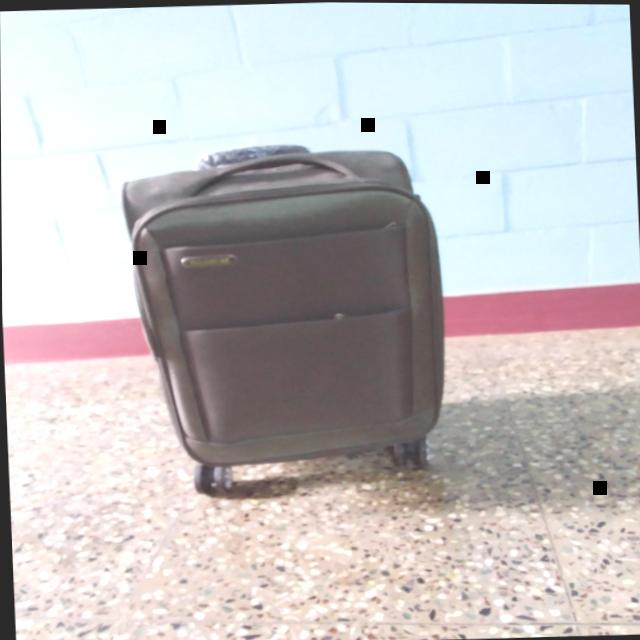luggage: (116, 139, 453, 474)
